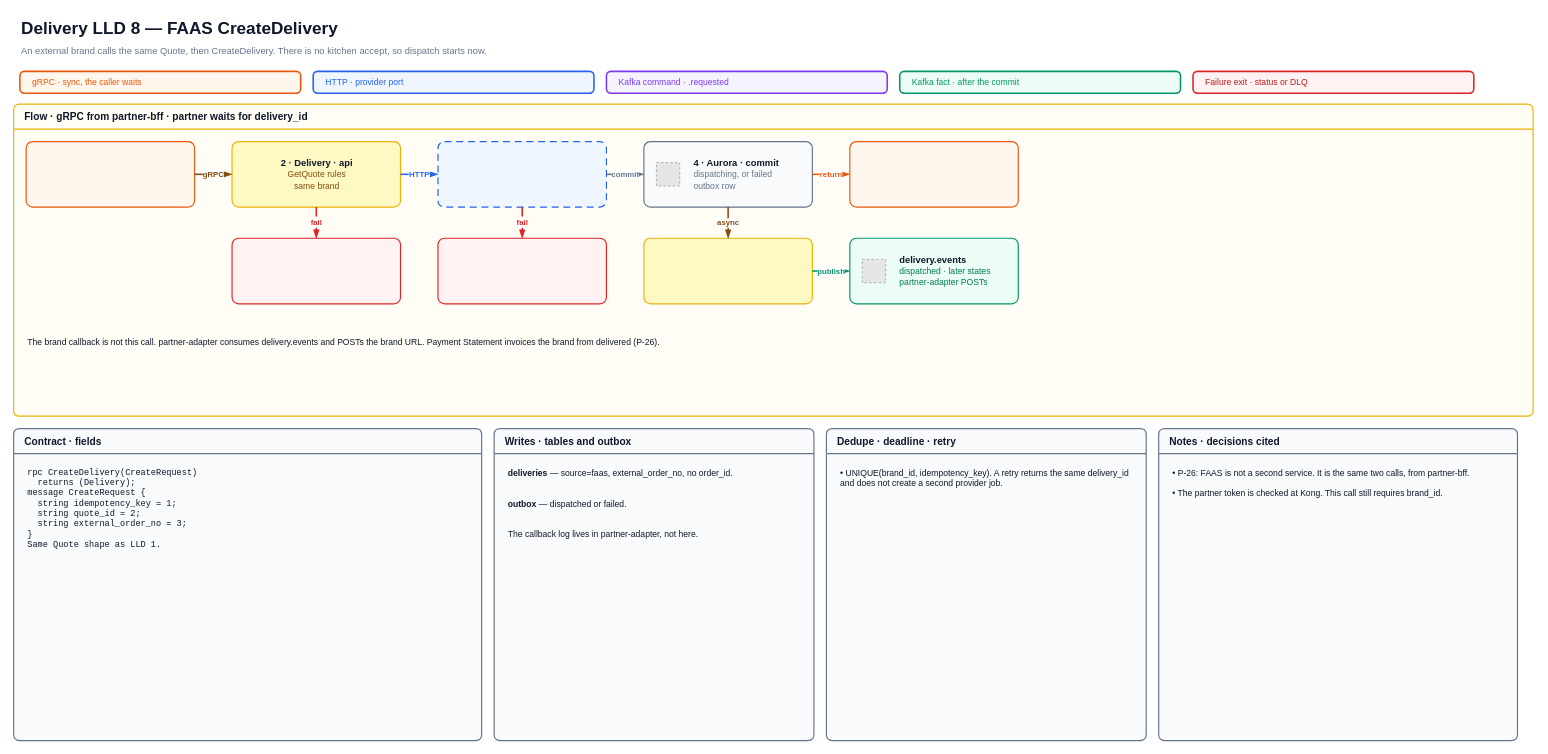
Image size: 1548x754. Some labels were removed from this diagram. Grey dashed boxes stand in for pictures. Here are the shapes that lost their labels. From the top down, the centre of each, then its label:
[110,174]: 1 · partner-bff CreateDelivery idempotency_key
[522,174]: 3 · provider port Create, fallback same as LLD 2
[934,174]: 5 · partner-bff delivery_id and status
[316,270]: quote expired FAILED_PRECONDITION nothing created
[522,270]: all providers fail commit failed retry returns it
[728,270]: Outbox relay · worker one relay per domain after the commit
